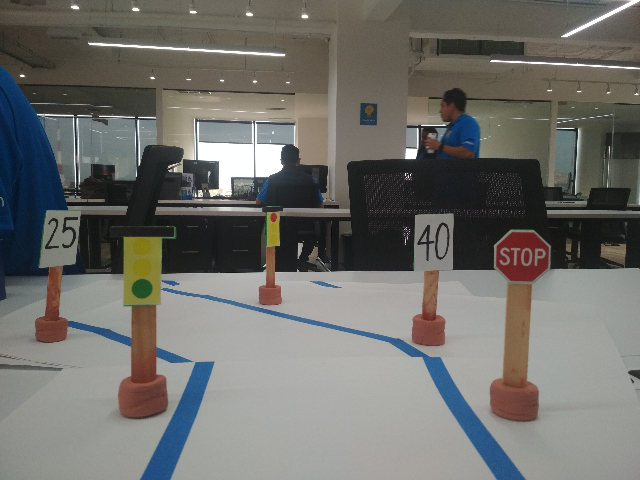Green Traffic Light: (104, 222, 177, 306)
Red Traffic Light: (258, 204, 285, 247)
Speed Limit 25: (36, 207, 82, 269)
Speed Limit 40: (410, 211, 460, 272)
Stop Sign: (492, 227, 553, 287)
